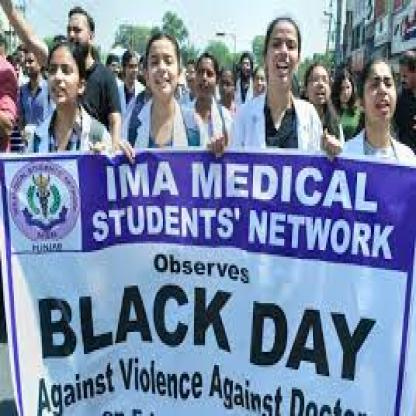BANNER: (0, 146, 416, 416)
